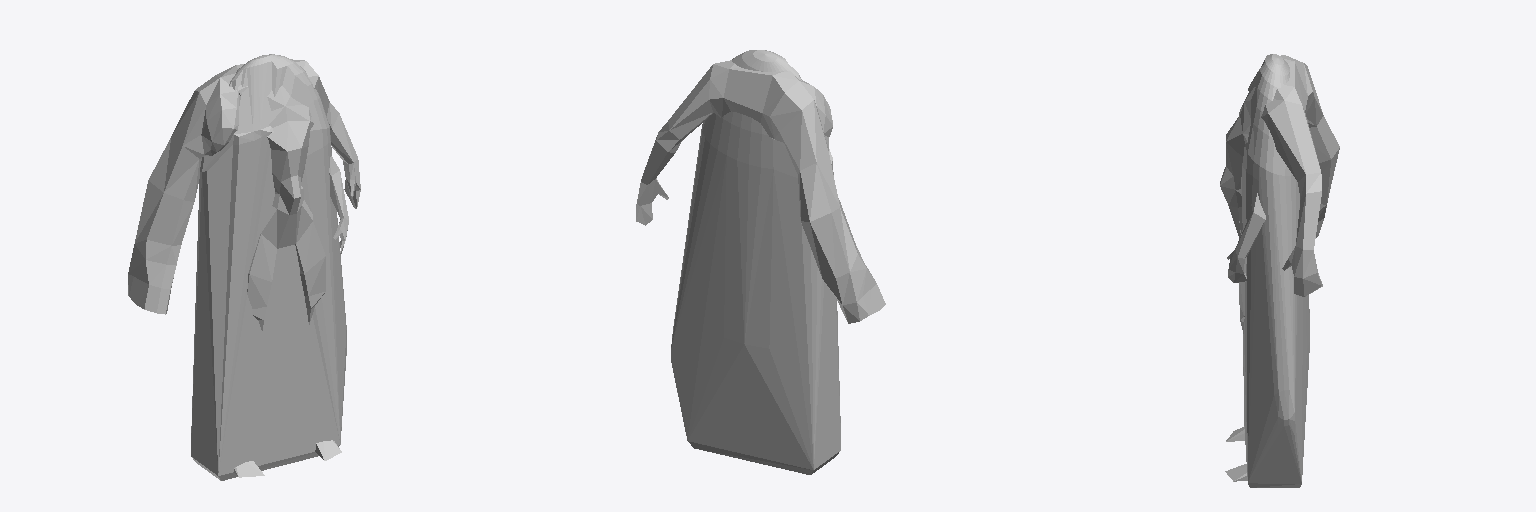
File: Schism.obj
3 views of the same model, side by side, from view 1: azimuth 30°, elevation 25°; view 2: azimuth 150°, elevation 25°; view 3: azimuth 270°, elevation 25° (orthographic).
Parts seen in each view (by area): view 1: UCX_convex_hull, greyhusk; view 2: UCX_convex_hull, greyhusk; view 3: UCX_convex_hull, greyhusk.
Boxes of the visible parts, <box> form: UCX_convex_hull: <box>191,54,346,480</box>; greyhusk: <box>128,59,360,477</box>; UCX_convex_hull: <box>671,50,840,474</box>; greyhusk: <box>636,60,885,323</box>; UCX_convex_hull: <box>1239,54,1309,487</box>; greyhusk: <box>1220,55,1339,481</box>.
Size of the model in its own units: 114 by 190 by 51.49.